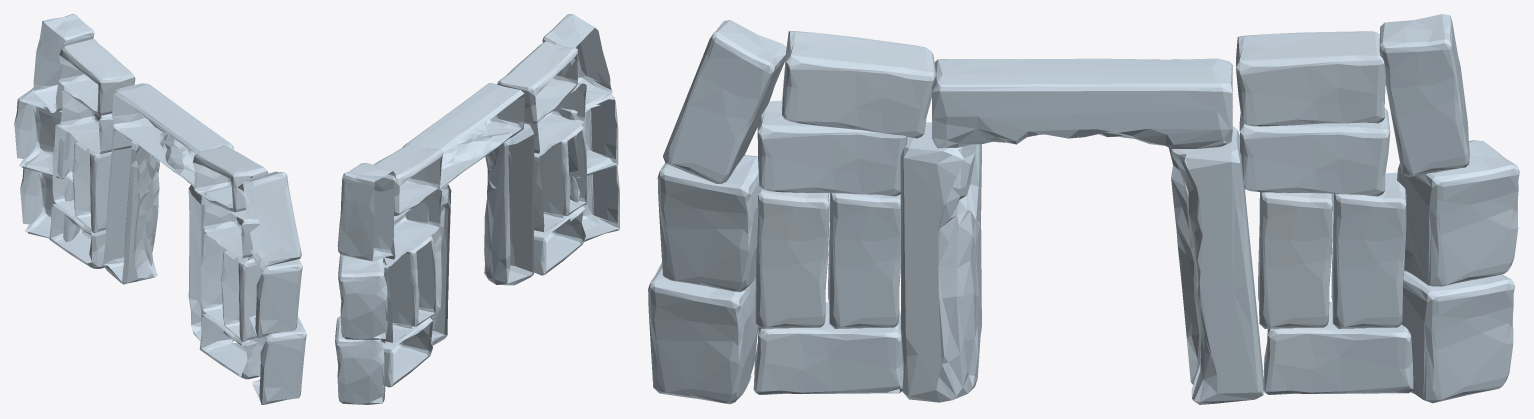
File: MadenOptimize.fbx
3 views of the same model, side by side, from view 1: azimuth 30°, elevation 25°; view 2: azimuth 150°, elevation 25°; view 3: azimuth 270°, elevation 25° (orthographic). The views are drawn at different scales.
Parts seen in each view (by area): view 1: Cube, Cube.001, Cube.018, Cube.013, Cube.016, Cube.017, Cube.008, Cube.015, Cube.007, Cube.011, Cube.005, Cube.009 (+7 smaller); view 2: Cube.002, Cube.001, Cube.015, Cube.008, Cube.011, Cube.007, Cube.013, Cube.016, Cube.018, Cube.017, Cube, Cube.010 (+7 smaller); view 3: Cube.001, Cube.002, Cube, Cube.011, Cube.013, Cube.008, Cube.007, Cube.016, Cube.018, Cube.015, Cube.017, Cube.014 (+7 smaller).
Boxes of the visible parts, x1=… form: Cube: x1=103, y1=128, x2=159, y2=284; Cube.001: x1=112, y1=83, x2=233, y2=186; Cube.018: x1=242, y1=171, x2=301, y2=266; Cube.013: x1=58, y1=38, x2=135, y2=115; Cube.016: x1=250, y1=316, x2=306, y2=404; Cube.017: x1=248, y1=249, x2=302, y2=337; Cube.008: x1=14, y1=87, x2=70, y2=179; Cube.015: x1=33, y1=14, x2=94, y2=112; Cube.007: x1=20, y1=154, x2=80, y2=241; Cube.011: x1=192, y1=145, x2=268, y2=212; Cube.005: x1=72, y1=141, x2=111, y2=232; Cube.009: x1=221, y1=249, x2=261, y2=341; Cube.002: x1=484, y1=123, x2=534, y2=285; Cube.001: x1=402, y1=83, x2=524, y2=189; Cube.015: x1=337, y1=163, x2=395, y2=261; Cube.008: x1=338, y1=250, x2=388, y2=340; Cube.011: x1=497, y1=41, x2=577, y2=124; Cube.007: x1=335, y1=316, x2=385, y2=404; Cube.013: x1=374, y1=143, x2=443, y2=215; Cube.016: x1=570, y1=151, x2=619, y2=241; Cube.018: x1=542, y1=14, x2=612, y2=112; Cube.017: x1=558, y1=90, x2=618, y2=177; Cube: x1=405, y1=184, x2=451, y2=345; Cube.010: x1=508, y1=142, x2=564, y2=232; Cube.001: x1=932, y1=58, x2=1232, y2=148; Cube.002: x1=900, y1=122, x2=981, y2=402; Cube: x1=1169, y1=126, x2=1263, y2=404; Cube.011: x1=782, y1=31, x2=935, y2=138; Cube.013: x1=1236, y1=31, x2=1385, y2=126; Cube.008: x1=1397, y1=140, x2=1519, y2=286; Cube.007: x1=1401, y1=271, x2=1514, y2=403; Cube.016: x1=648, y1=262, x2=758, y2=404; Cube.018: x1=663, y1=20, x2=786, y2=183; Cube.015: x1=1379, y1=14, x2=1469, y2=177; Cube.017: x1=657, y1=155, x2=760, y2=292; Cube.014: x1=1239, y1=108, x2=1390, y2=196.
Bounding box in the file's own units: 344 × 1097 × 2389.
